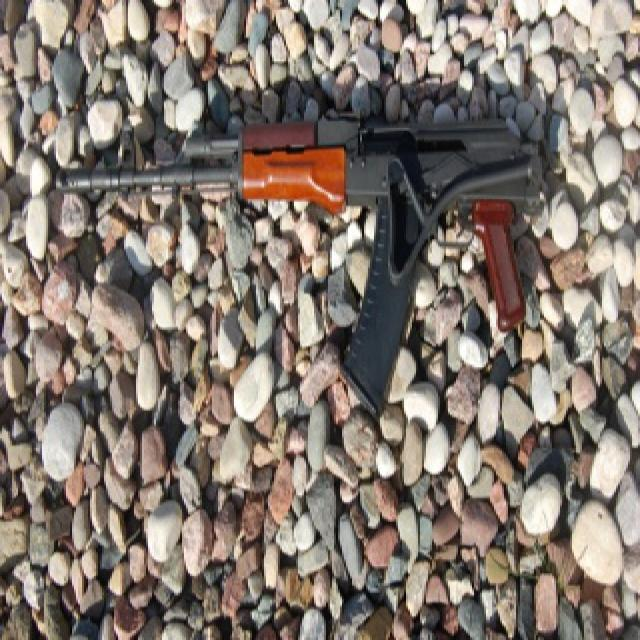rifle: (57, 111, 545, 409)
